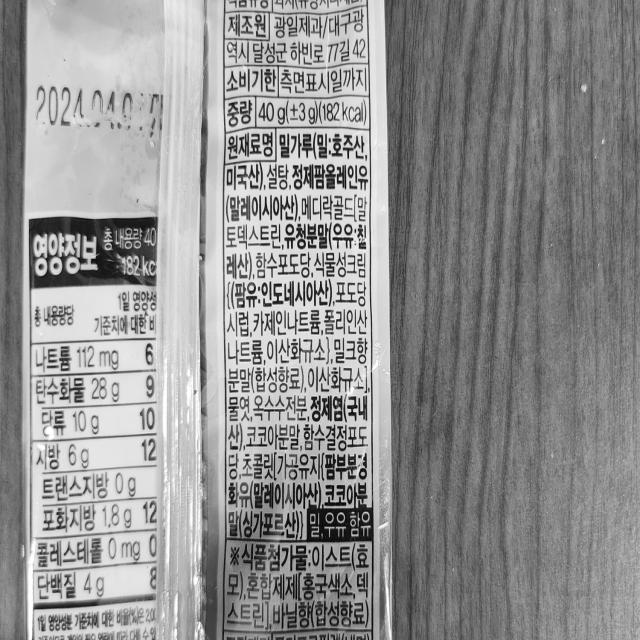Nutrition Label: (19, 207, 191, 624)
